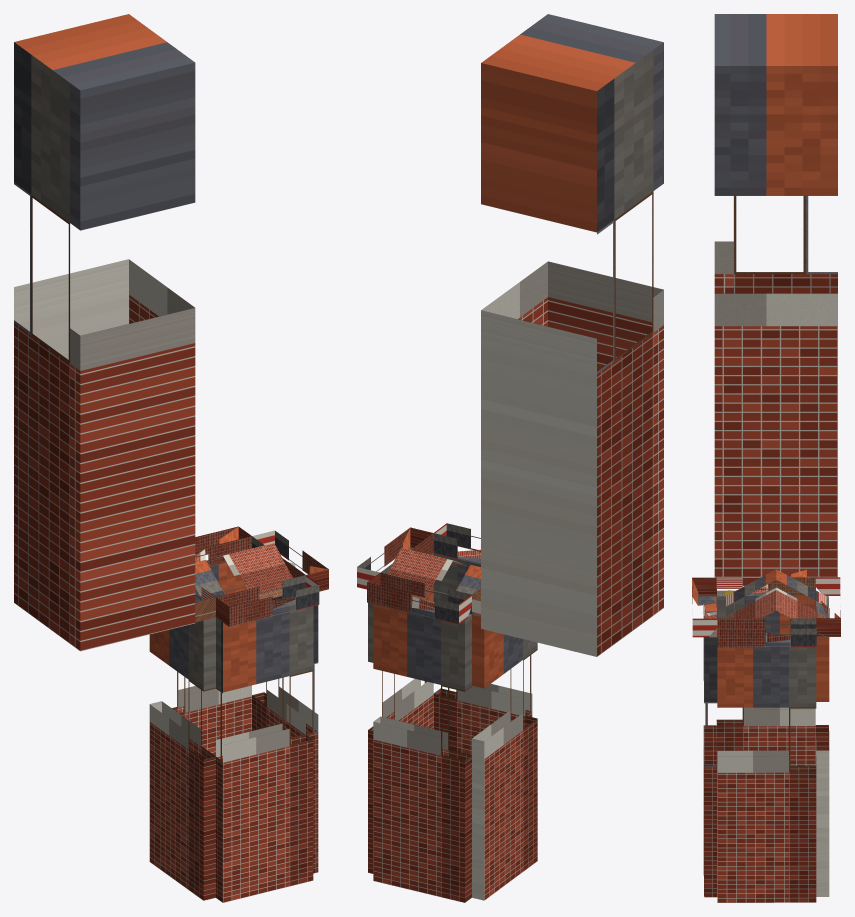
The picture shows the model from 3 angles, left to right: view 1: azimuth 30°, elevation 25°; view 2: azimuth 150°, elevation 25°; view 3: azimuth 270°, elevation 25°; orthographic projection. The views are drawn at different scales.
Visible parts, largest first — view 1: 1107169176__chimney_0_xb, 1107169176__wall_2_xb, 1107169176__wall_3_xb, 1107169176__wall_0_xb, 1107169176__wall_1_xb, 1107169176_roof_-1_xb, 1107169176__cornice_2, 1107169176__cornice_0, 1107169176__cornice_1; view 2: 1107169176__chimney_0_xb, 1107169176__wall_0_xb, 1107169176__wall_3_xb, 1107169176__wall_2_xb, 1107169176__wall_1_xb, 1107169176__cornice_0, 1107169176_roof_1_xb, 1107169176__cornice_1, 1107169176__cornice_2; view 3: 1107169176__chimney_0_xb, 1107169176__wall_1_xb, 1107169176__wall_3_xb, 1107169176__wall_2_xb, 1107169176__wall_0_xb, 1107169176__cornice_1, 1107169176_roof_1_xb, 1107169176_roof_-1_xb, 1107169176__cornice_2, 1107169176__cornice_0, 1107169176__cornice_3.
Part boxes in pixels (x1,y1,x2,y2): 1107169176__chimney_0_xb: (14,14,195,651); 1107169176__wall_2_xb: (216,599,313,902); 1107169176__wall_3_xb: (149,617,215,900); 1107169176__wall_0_xb: (172,560,251,756); 1107169176__wall_1_xb: (252,596,318,873); 1107169176_roof_-1_xb: (195,543,292,600); 1107169176__cornice_2: (216,575,319,626); 1107169176__cornice_0: (195,526,251,566); 1107169176__cornice_1: (252,530,328,591); 1107169176__chimney_0_xb: (481,14,663,656); 1107169176__wall_0_xb: (373,604,471,902); 1107169176__wall_3_xb: (472,613,537,900); 1107169176__wall_2_xb: (433,553,532,754); 1107169176__wall_1_xb: (368,553,433,873); 1107169176__cornice_0: (367,572,471,624); 1107169176_roof_1_xb: (387,548,480,613); 1107169176__cornice_1: (357,527,433,589); 1107169176__cornice_2: (433,523,480,564); 1107169176__chimney_0_xb: (714,14,837,586); 1107169176__wall_1_xb: (717,639,816,902); 1107169176__wall_3_xb: (716,590,815,765); 1107169176__wall_2_xb: (703,596,717,897); 1107169176__wall_0_xb: (815,596,829,896); 1107169176__cornice_1: (717,618,816,647); 1107169176_roof_1_xb: (776,569,826,636); 1107169176_roof_-1_xb: (726,569,776,628); 1107169176__cornice_2: (692,577,717,637); 1107169176__cornice_0: (815,577,840,636); 1107169176__cornice_3: (716,569,815,596).
Size of the model in its own units: 0.3264 by 1.05 by 0.1815.
1 material, 1 textured.
